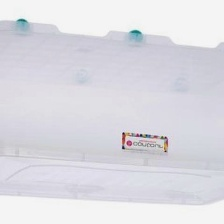plastic_box: (0, 13, 224, 212)
